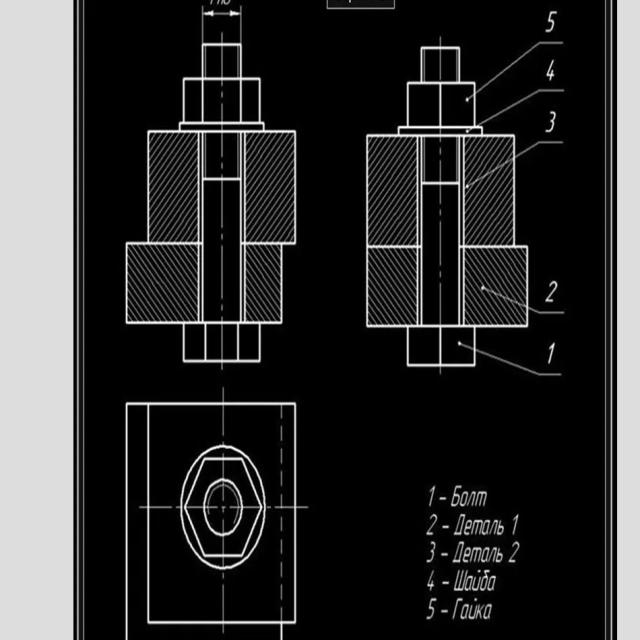marking_line: (200, 5, 243, 42)
numeric: (546, 9, 559, 34), (424, 540, 437, 564), (545, 343, 559, 365), (509, 539, 521, 564), (426, 514, 439, 537), (426, 598, 438, 621), (546, 280, 557, 304), (546, 110, 557, 134), (428, 486, 439, 509), (547, 59, 556, 84), (426, 570, 436, 592), (511, 514, 518, 536)
